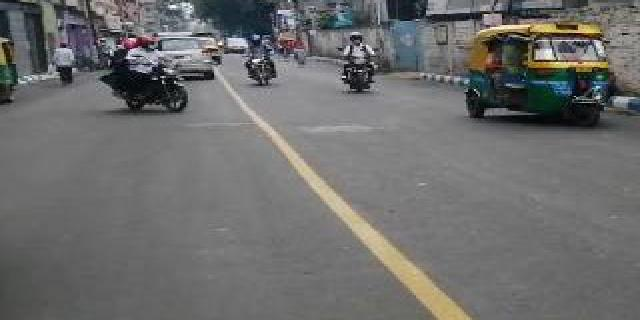Autorickshaw: (457, 18, 619, 131)
Car: (152, 36, 215, 82)
Motorbike: (99, 32, 188, 117), (338, 33, 382, 100), (242, 32, 274, 87)
